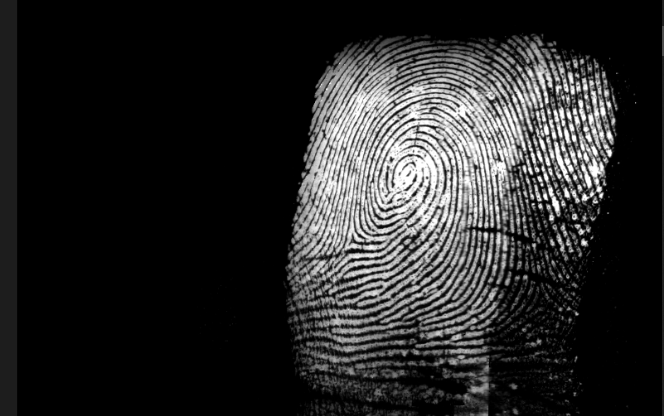nucelo: (386, 156, 420, 192)
verticilo: (526, 288, 561, 319), (338, 225, 374, 251)
